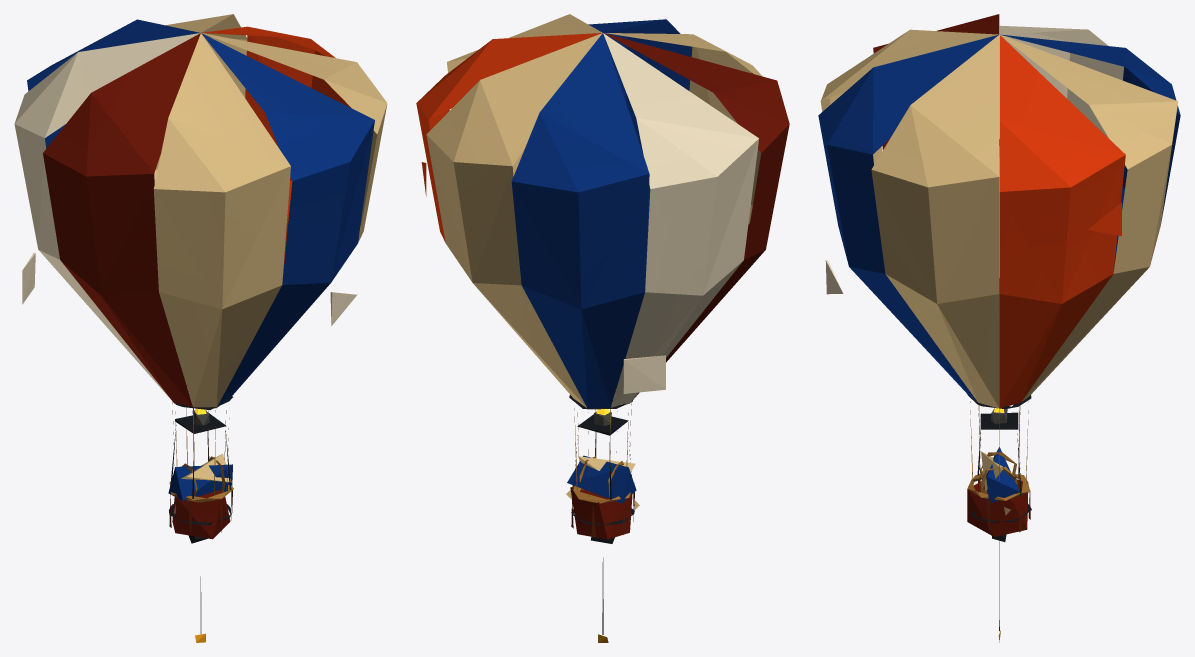
File: tb_balloon.three-web-toon.lod25.glb
The picture shows the model from 3 angles, left to right: view 1: azimuth 30°, elevation 25°; view 2: azimuth 150°, elevation 25°; view 3: azimuth 270°, elevation 25°; orthographic projection.
Parts seen in each view (by area): view 1: balloon_envelope_mesh_lod, balloon_basket_lod, balloon_stowed_mesh_lod, balloon_burner_mesh_lod; view 2: balloon_envelope_mesh_lod, balloon_basket_lod, balloon_stowed_mesh_lod, balloon_burner_mesh_lod; view 3: balloon_envelope_mesh_lod, balloon_basket_lod, balloon_stowed_mesh_lod, balloon_burner_mesh_lod.
Part boxes in pixels (left/top/right/bottom): balloon_envelope_mesh_lod: left=14, top=14, right=387, bottom=495; balloon_basket_lod: left=169, top=481, right=233, bottom=539; balloon_stowed_mesh_lod: left=168, top=453, right=232, bottom=500; balloon_burner_mesh_lod: left=170, top=408, right=231, bottom=498; balloon_envelope_mesh_lod: left=416, top=14, right=789, bottom=496; balloon_basket_lod: left=566, top=483, right=639, bottom=539; balloon_stowed_mesh_lod: left=567, top=455, right=636, bottom=503; balloon_burner_mesh_lod: left=573, top=409, right=631, bottom=500; balloon_envelope_mesh_lod: left=818, top=14, right=1180, bottom=492; balloon_basket_lod: left=967, top=474, right=1031, bottom=536; balloon_stowed_mesh_lod: left=979, top=447, right=1019, bottom=503; balloon_burner_mesh_lod: left=977, top=408, right=1021, bottom=495.
Bounding box in the file's own units: 6.74 × 12.44 × 6.74.
